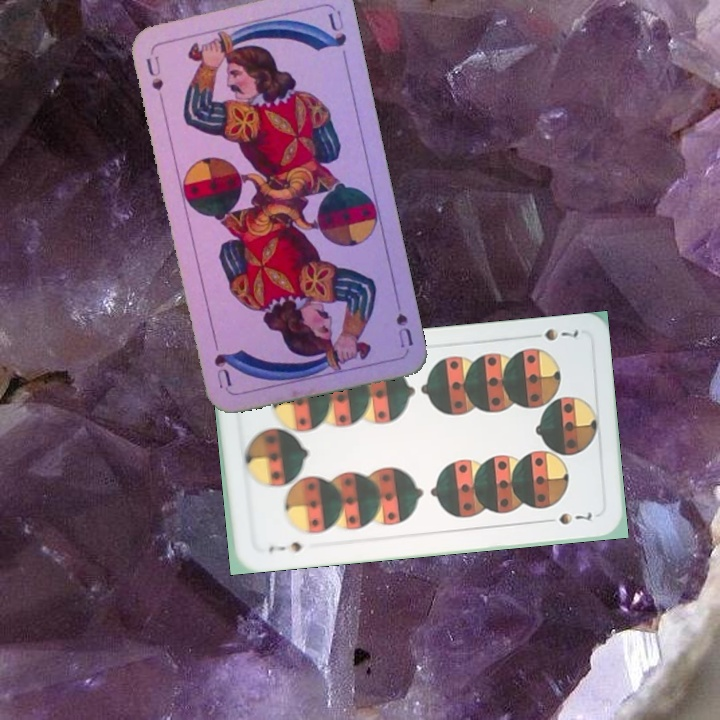S7: (540, 324, 581, 344), (265, 537, 305, 557)
SU: (392, 308, 416, 351), (142, 51, 166, 93)
